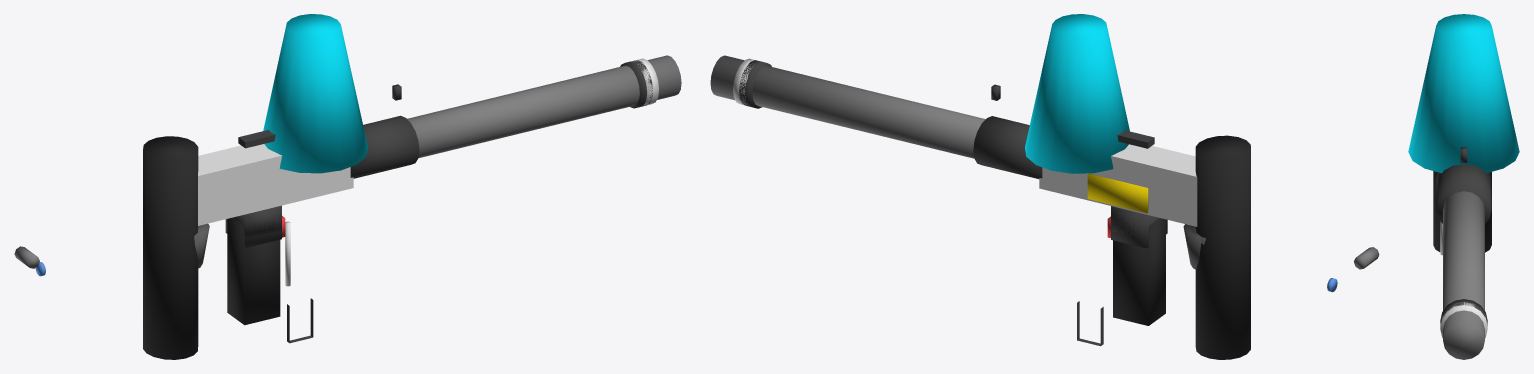
Rendered from gun.glb.
3 renders of one model, left to right at view 1: azimuth 30°, elevation 25°; view 2: azimuth 150°, elevation 25°; view 3: azimuth 270°, elevation 25°, orthographic.
Parts seen in each view (by area): view 1: Hopper, CO2Tank, Barrel, GunBody, Grip, BarrelReinforcement, GripConnector.001, GripConnector, BarrelTip, BarrelTip.001; view 2: Hopper, CO2Tank, Barrel, GunBody, Grip, BarrelReinforcement, Logo, GripConnector, BarrelTip, GripConnector.001; view 3: Hopper, Barrel, BarrelReinforcement, CO2Tank, BarrelTip.001, BarrelTip, FrontSight.
Boxes of the visible parts, x1=… form: Hopper: x1=263, y1=14, x2=367, y2=173; CO2Tank: x1=143, y1=136, x2=198, y2=359; Barrel: x1=407, y1=55, x2=681, y2=158; GunBody: x1=198, y1=144, x2=353, y2=225; Grip: x1=227, y1=217, x2=280, y2=325; BarrelReinforcement: x1=350, y1=115, x2=419, y2=178; GripConnector.001: x1=225, y1=205, x2=281, y2=238; GripConnector: x1=225, y1=209, x2=281, y2=247; BarrelTip: x1=620, y1=60, x2=652, y2=108; BarrelTip.001: x1=631, y1=58, x2=658, y2=105; Hopper: x1=1025, y1=14, x2=1129, y2=173; CO2Tank: x1=1195, y1=135, x2=1250, y2=359; Barrel: x1=710, y1=55, x2=985, y2=158; GunBody: x1=1039, y1=144, x2=1197, y2=226; Grip: x1=1113, y1=218, x2=1165, y2=325; BarrelReinforcement: x1=973, y1=116, x2=1042, y2=178; Logo: x1=1087, y1=173, x2=1148, y2=213; GripConnector: x1=1111, y1=210, x2=1167, y2=248; BarrelTip: x1=739, y1=60, x2=771, y2=108; GripConnector.001: x1=1111, y1=206, x2=1167, y2=238; Hopper: x1=1408, y1=14, x2=1519, y2=173; Barrel: x1=1443, y1=191, x2=1484, y2=359; BarrelReinforcement: x1=1436, y1=164, x2=1491, y2=223; CO2Tank: x1=1433, y1=171, x2=1491, y2=252; BarrelTip.001: x1=1440, y1=302, x2=1487, y2=337; BarrelTip: x1=1440, y1=299, x2=1487, y2=325; FrontSight: x1=1460, y1=147, x2=1467, y2=162.
Size of the model in its own units: 5.45 by 2.5 by 0.8.
